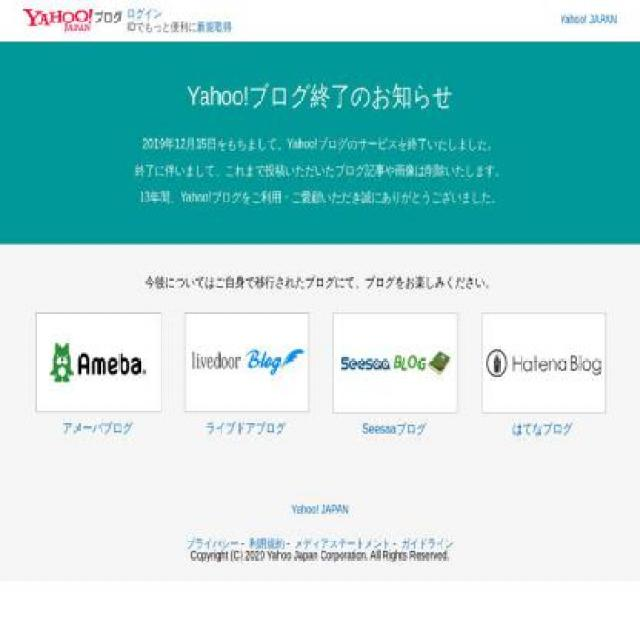button: (23, 0, 122, 42)
